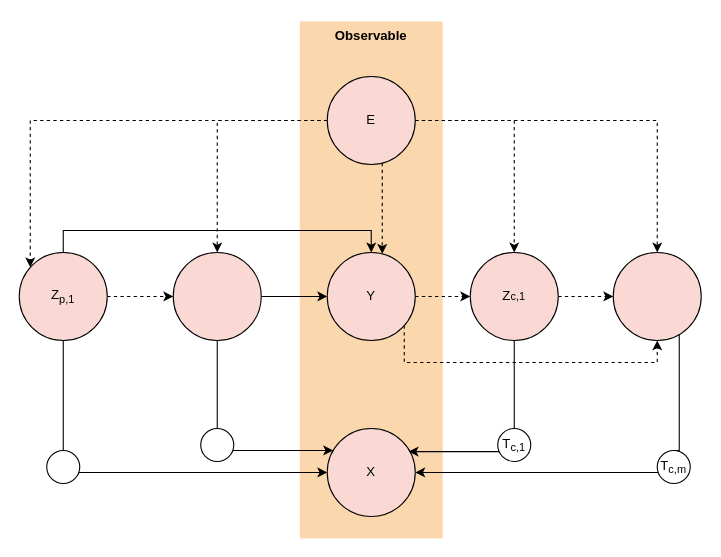
The diagram is 721 pixels wide and 557 high, and some of its shapes have lost their labels. The centre of each missing label's shape, as x and y in pixels:
T p,n: the point at 217,444
T p.1: the point at 63,466
Z c,m: the point at 656,295
Z p,n: the point at 216,295
